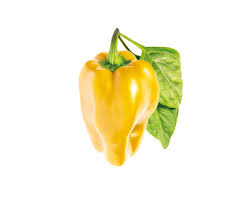bell pepper: (71, 25, 161, 169)
